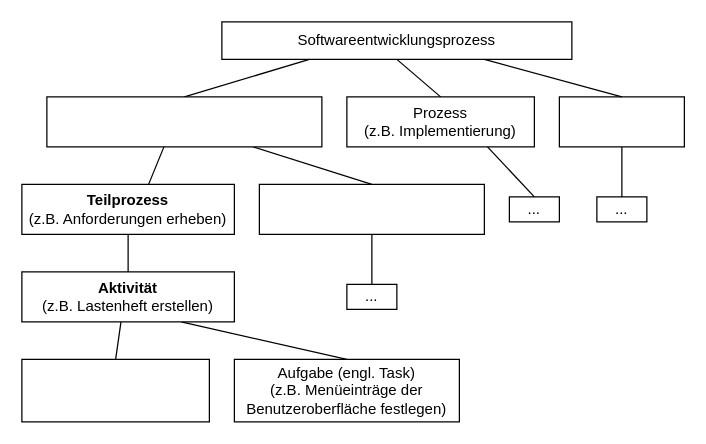
Image size: 706x444. Some labels were removed from this diagram. Here are the shapes that lost their labels. From the top down, the centre of each, then its label:
At point (184, 121): "Prozess (z.B. Anforderungsermittlung/-analyse)".
At point (621, 121): "Prozess (z.B. Testen)".
At point (371, 208): "Teilprozess (z.B. Anforderungen validieren)".
At point (115, 390): "Aufgabe (engl. Task) (z.B. Reaktionszeit der Datenbank spezifizieren)".
